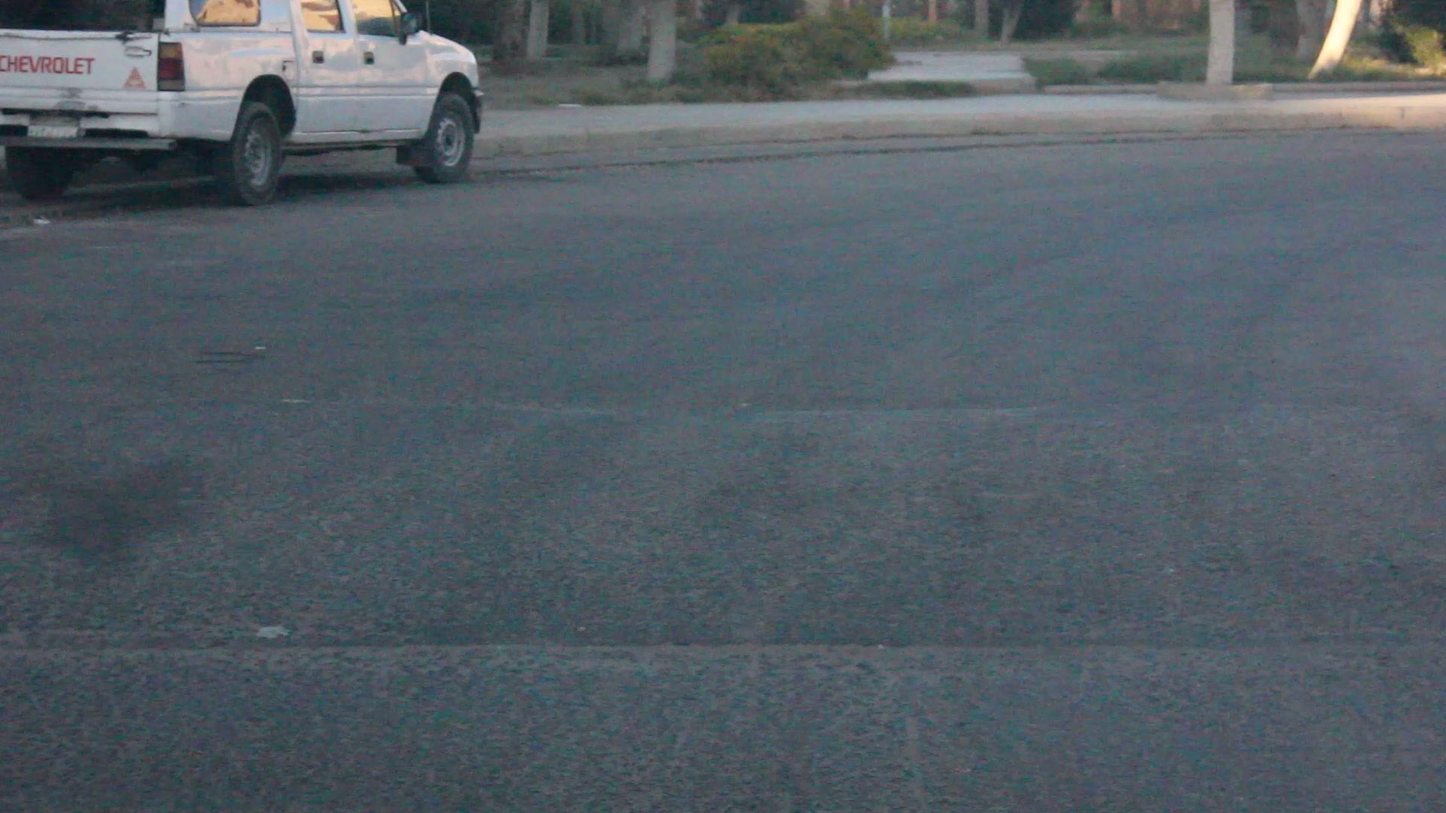Bump: (0, 390, 1445, 646)
